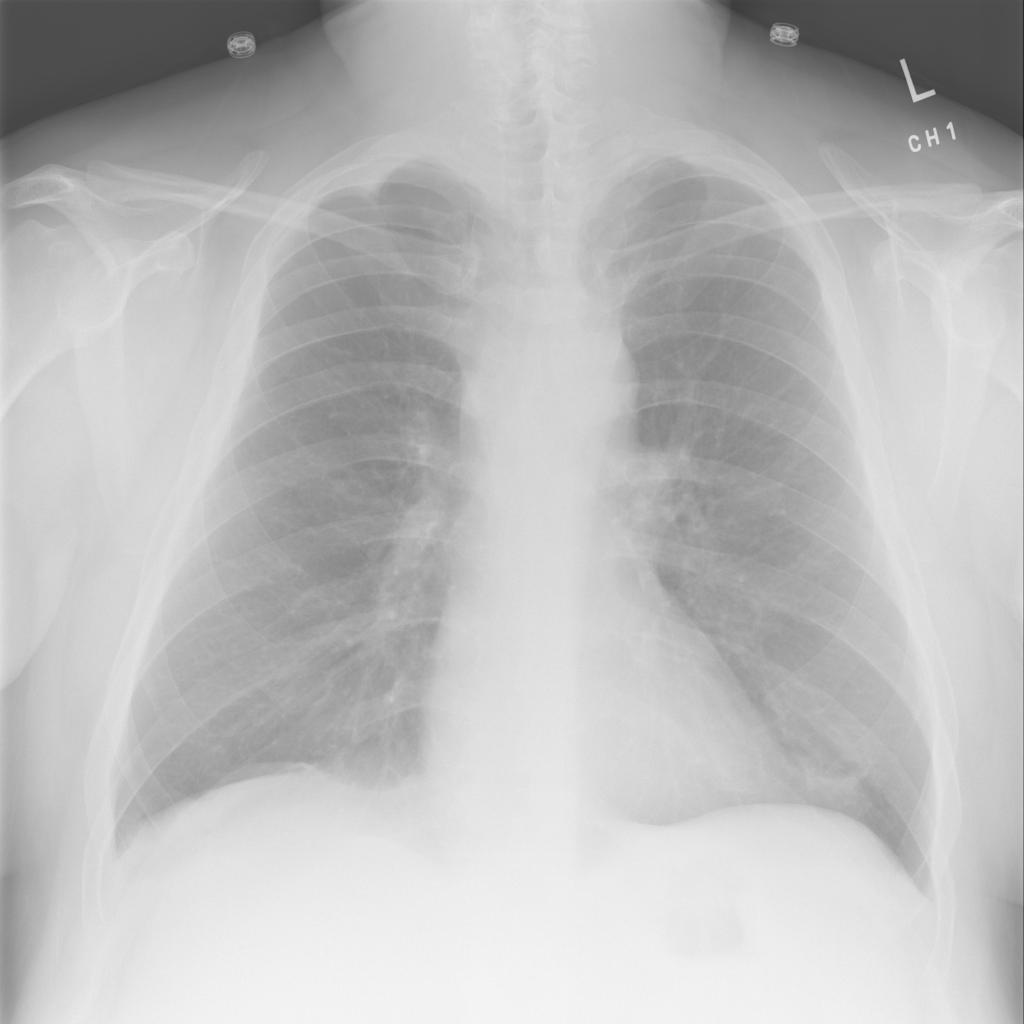Nodule: (174, 102, 179, 110)
